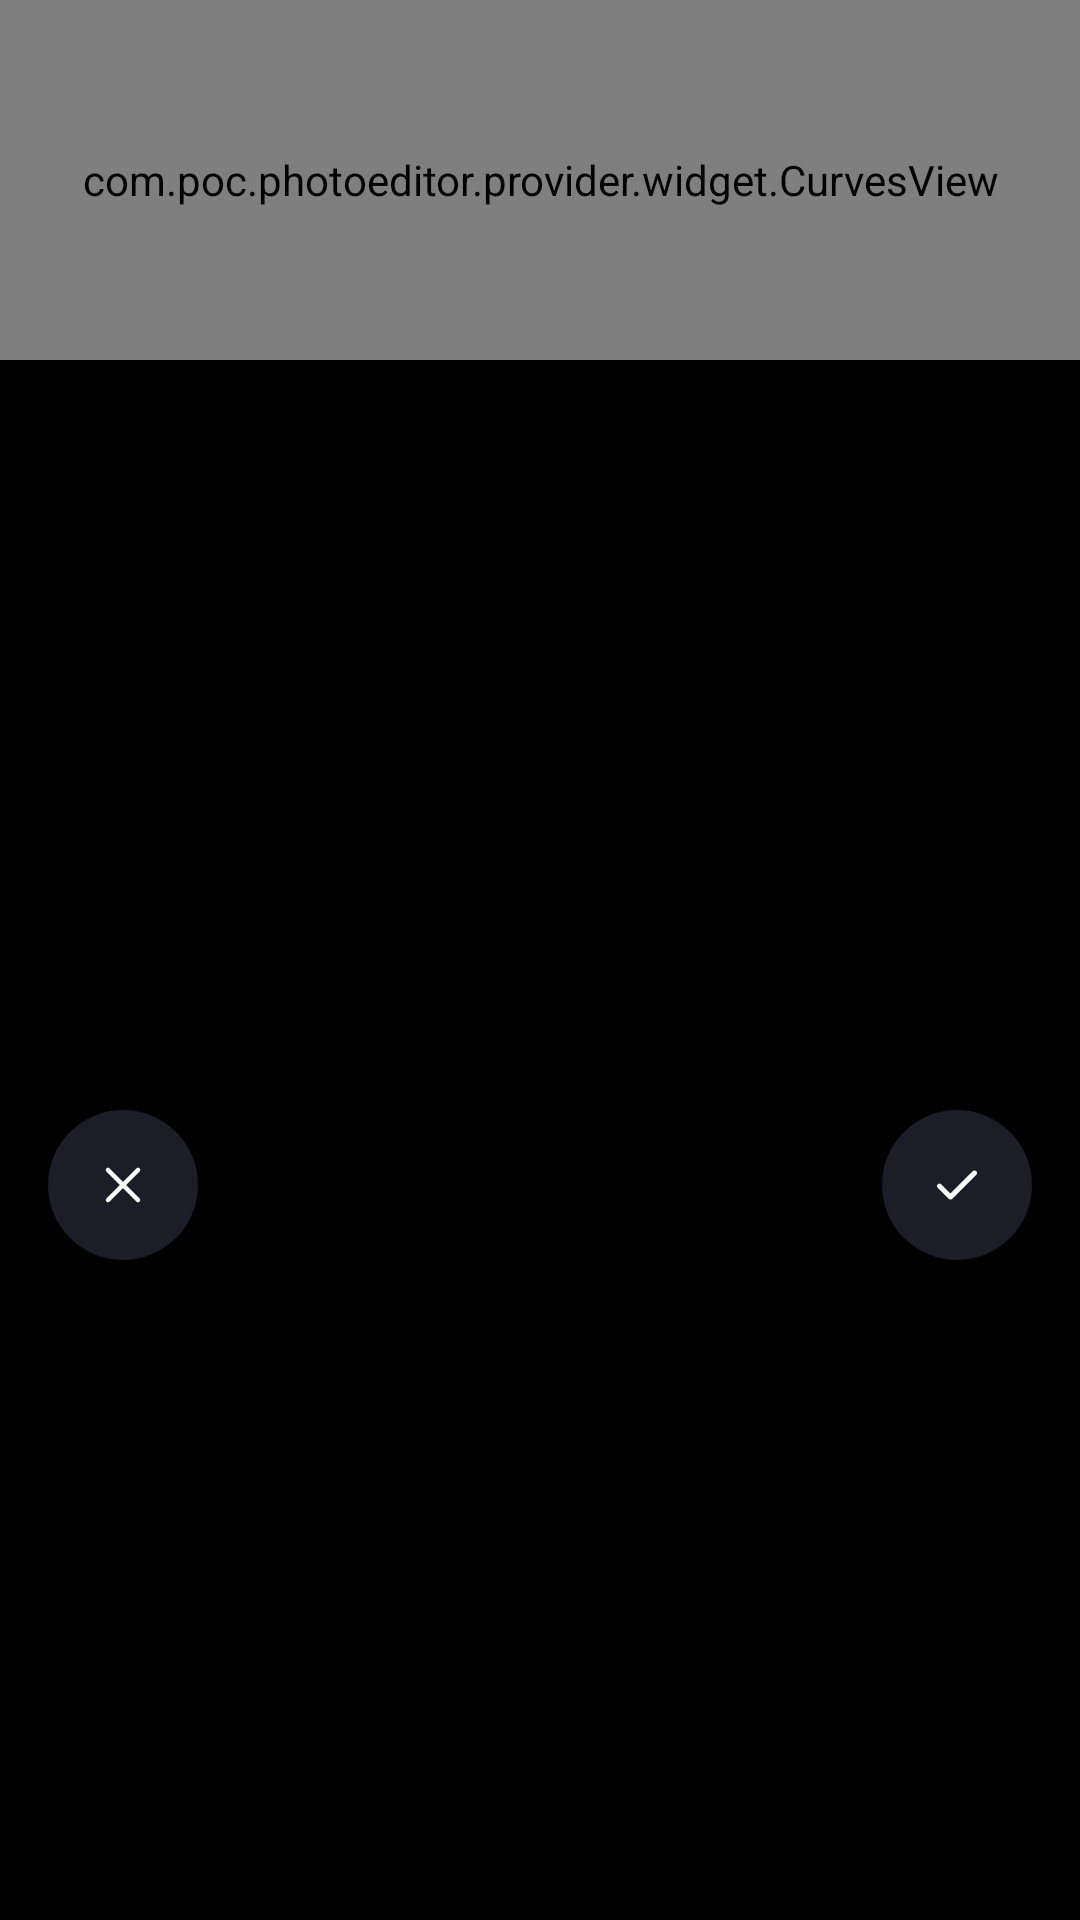

Icons on this 1080w x 1920h Android screen, each with the point to tap as (x,y):
edit check: (957,1185)
edit close: (123,1185)
